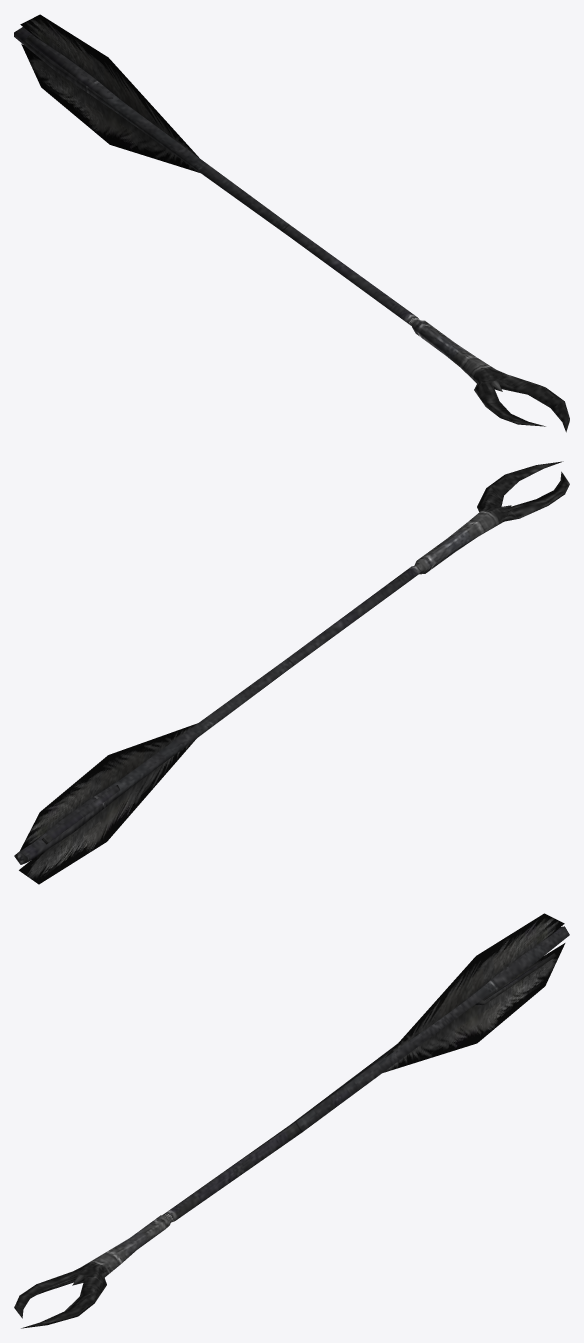
The model's file is daedric-arrow.glb.
3 renders of one model, top to bottom at view 1: azimuth 30°, elevation 25°; view 2: azimuth 150°, elevation 25°; view 3: azimuth 330°, elevation 25°, orthographic.
Visible parts, largest first — view 1: DaedricArrowFlight:0; view 2: DaedricArrowFlight:0; view 3: DaedricArrowFlight:0.
Boxes of the visible parts, box(x1,y1,x2,y2) form: DaedricArrowFlight:0: box(14, 14, 569, 432); DaedricArrowFlight:0: box(14, 461, 569, 884); DaedricArrowFlight:0: box(14, 913, 569, 1328).
Size of the model in its own units: 0.0496 by 0.0662 by 0.75.
1 material, 1 textured.
